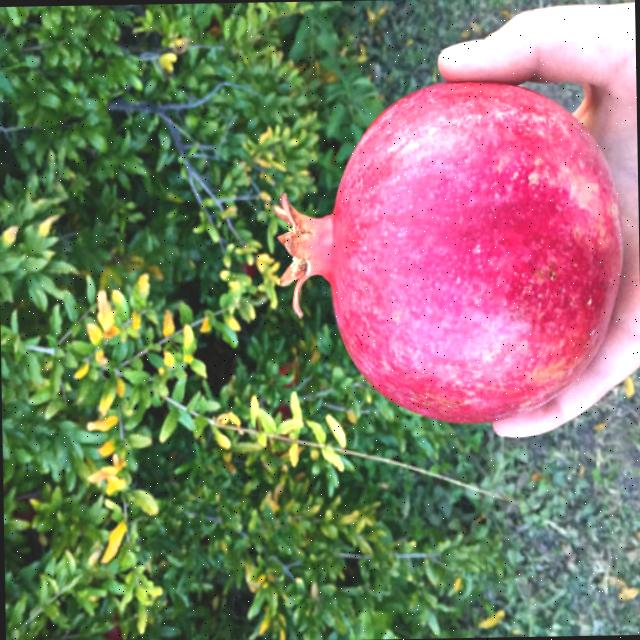Ripe: (261, 76, 633, 442)
